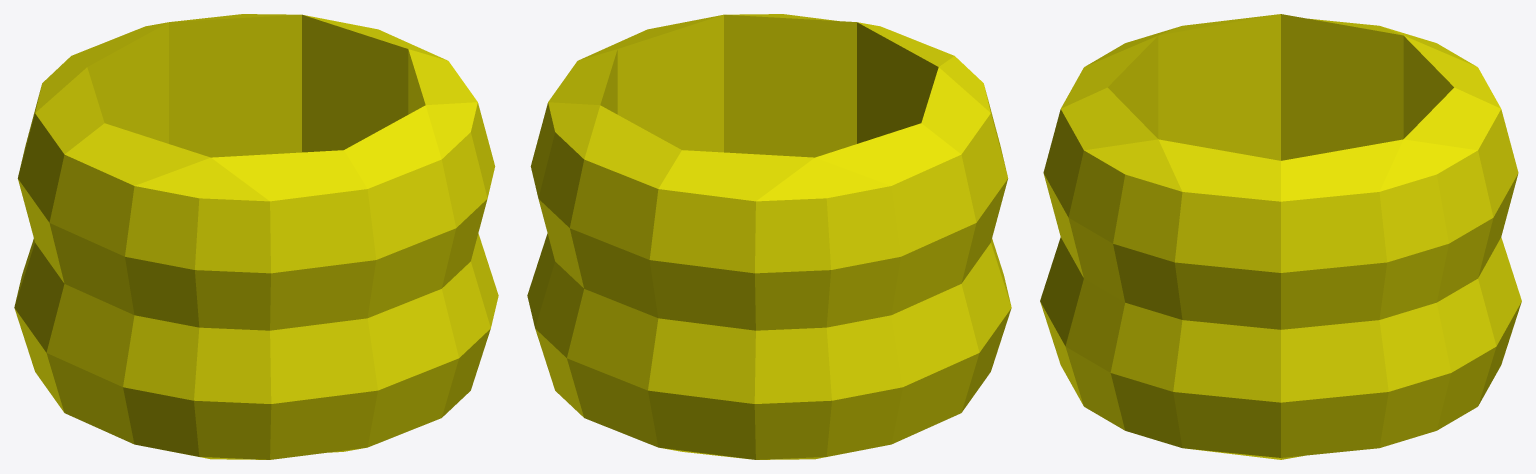
Rendered from cordaamarrada.fbx.
3 views of the same model, side by side, from view 1: azimuth 30°, elevation 25°; view 2: azimuth 150°, elevation 25°; view 3: azimuth 270°, elevation 25° (orthographic).
Parts seen in each view (by area): view 1: corda_amarrada; view 2: corda_amarrada; view 3: corda_amarrada.
Boxes of the visible parts, bbox=[...] form: corda_amarrada: bbox=[14, 14, 498, 459]; corda_amarrada: bbox=[527, 14, 1011, 459]; corda_amarrada: bbox=[1040, 14, 1521, 459].
Bounding box in the file's own units: 74.48 × 51.12 × 74.66.
